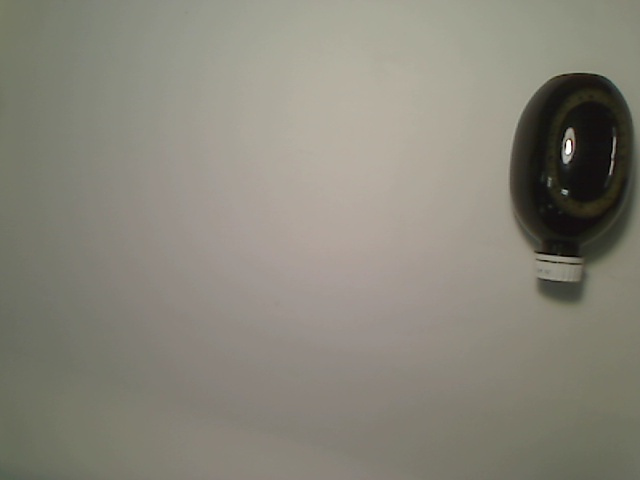plast_bottle: (507, 70, 637, 285)
